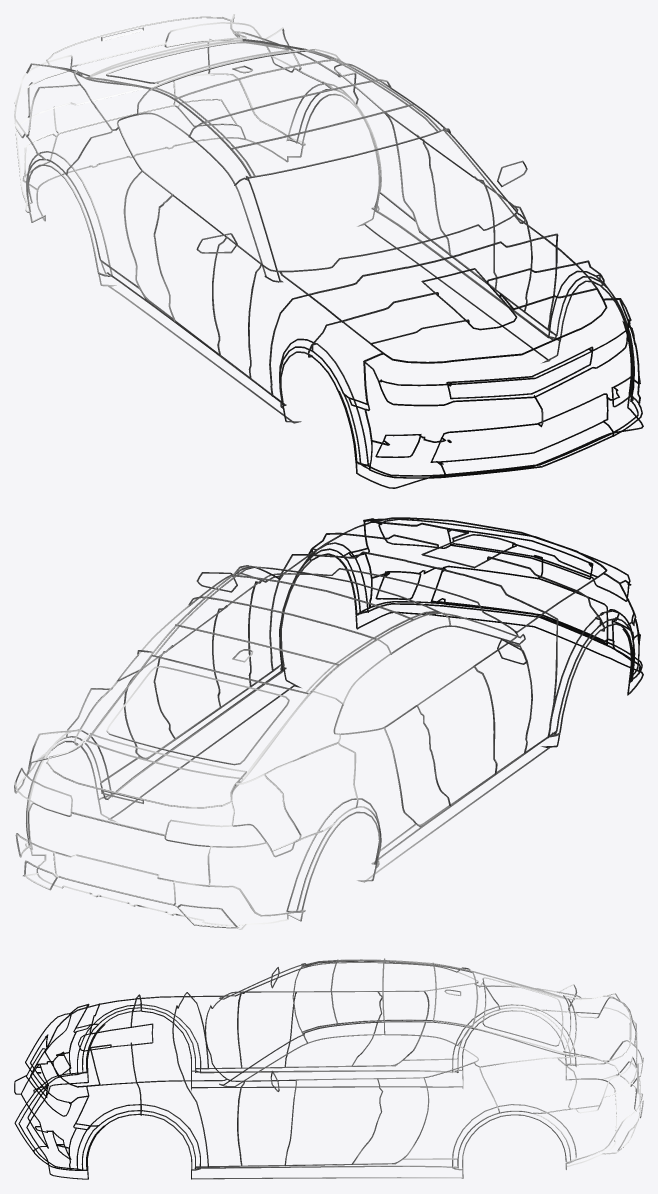
The model's file is Mustang2014_Wire.fbx.
3 renders of one model, top to bottom at view 1: azimuth 30°, elevation 25°; view 2: azimuth 150°, elevation 25°; view 3: azimuth 270°, elevation 25°, orthographic. The views are drawn at different scales.
Parts seen in each view (by area): view 1: Shape020; view 2: Shape020; view 3: Shape020.
Part boxes in pixels (bbox=[...]): Shape020: bbox=[14, 14, 643, 488]; Shape020: bbox=[14, 517, 643, 929]; Shape020: bbox=[14, 958, 643, 1179].
Bounding box in the file's own units: 2.02 × 1.16 × 4.55.
Materials: 1 (1 with a texture image).
